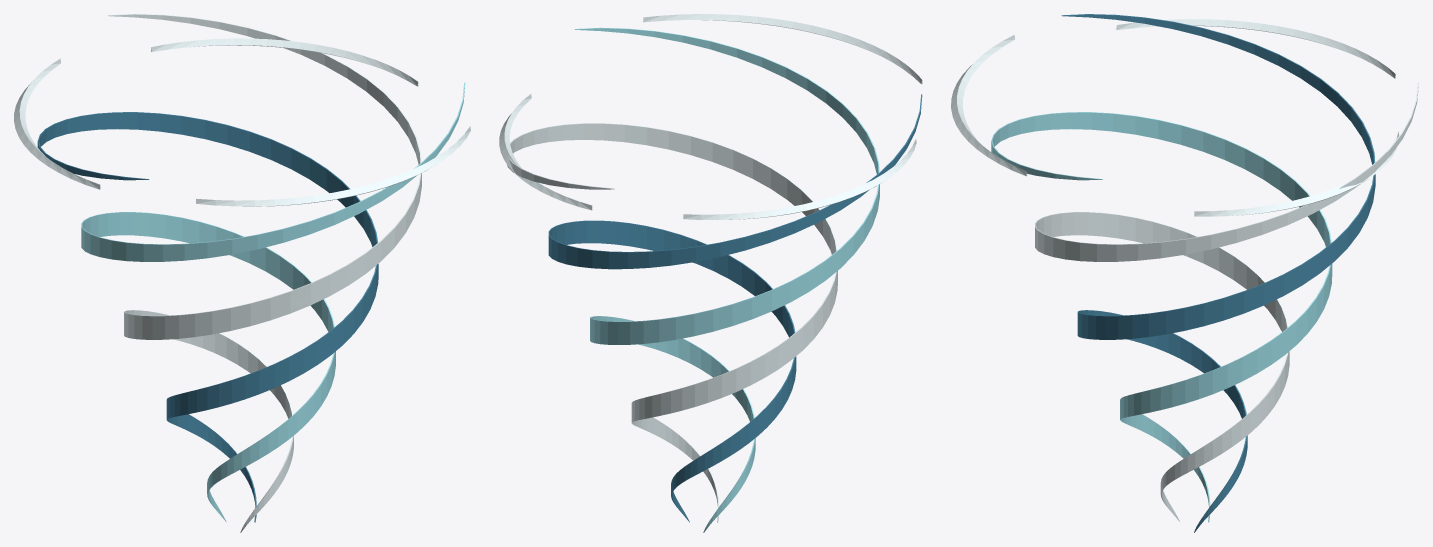
The model's file is VFX_50_TempestaCicloneSpirale.fbx.
3 views of the same model, side by side, from view 1: azimuth 30°, elevation 25°; view 2: azimuth 150°, elevation 25°; view 3: azimuth 270°, elevation 25° (orthographic). The views are drawn at different scales.
Visible parts, largest first — view 1: VFX_50_TempestaCicloneSpirale; view 2: VFX_50_TempestaCicloneSpirale; view 3: VFX_50_TempestaCicloneSpirale.
Part boxes in pixels (<box>): VFX_50_TempestaCicloneSpirale: <box>14,14,470,532</box>; VFX_50_TempestaCicloneSpirale: <box>499,14,922,532</box>; VFX_50_TempestaCicloneSpirale: <box>951,14,1418,532</box>.
Size of the model in its own units: 316 by 350 by 343.
Materials: 1 (1 with a texture image).
